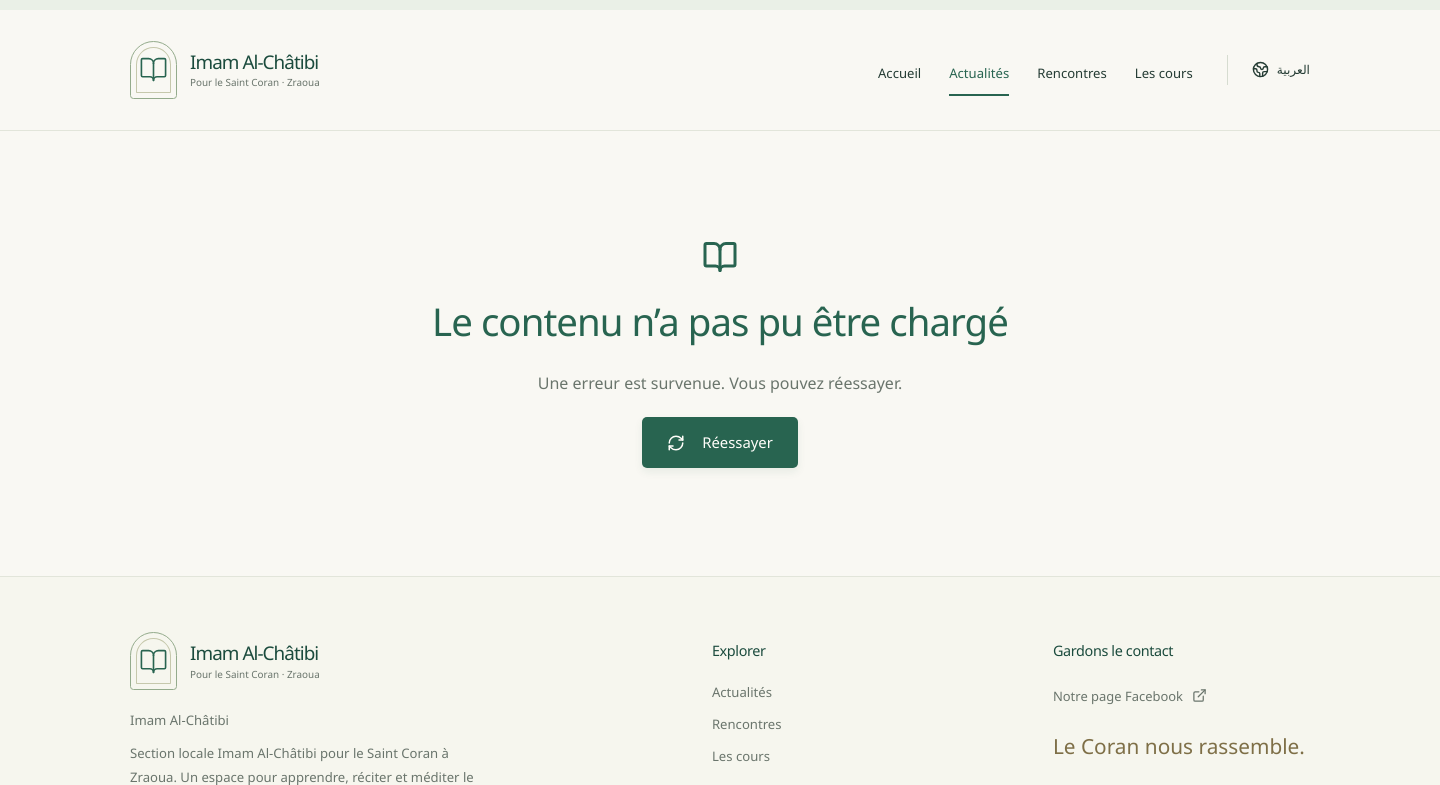
Test: a rejected service displays an error and retry recovers the requested page
Expected: the message shows "Le contenu n’a pas pu être chargé", [432, 295, 1008, 347]
Click the button "Réessayer". click: x=720, y=443
box: [642, 417, 798, 468]
(page scrolled)
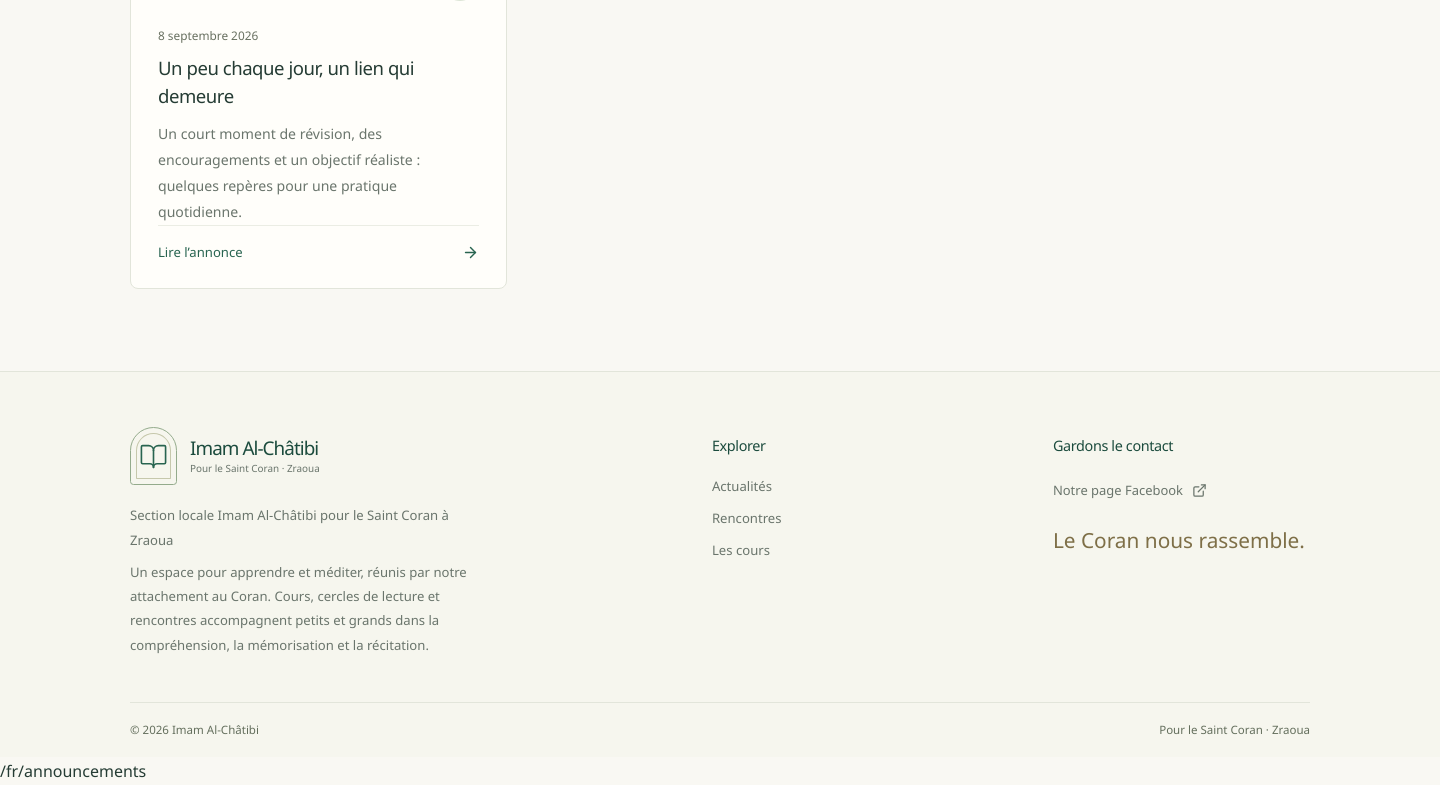
Expected: the text with test id "current-location" reads "/fr/announcements", [0, 760, 146, 782]
Expected: the message is gone
